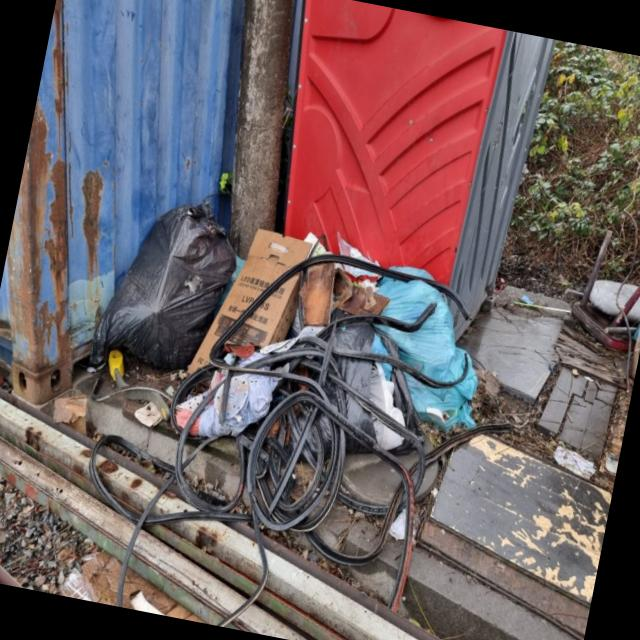garbage: (25, 150, 516, 640)
